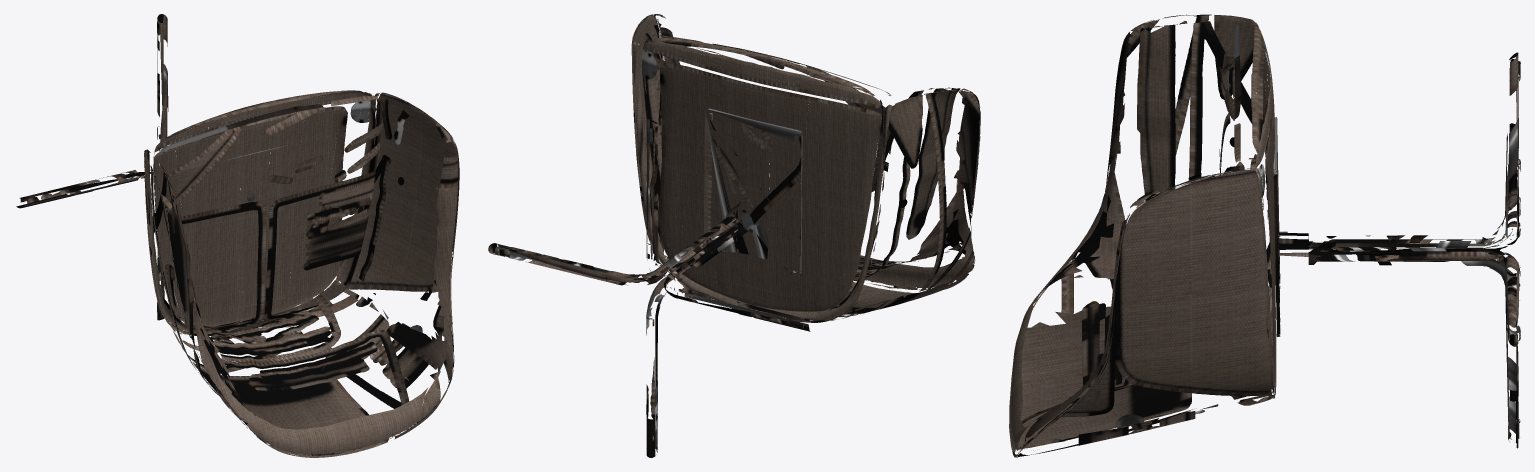
The picture shows the model from 3 angles, left to right: view 1: azimuth 30°, elevation 25°; view 2: azimuth 150°, elevation 25°; view 3: azimuth 270°, elevation 25°; orthographic projection. The views are drawn at different scales.
Bounding box in the file's own units: 0.6698 × 0.67 × 0.789.
